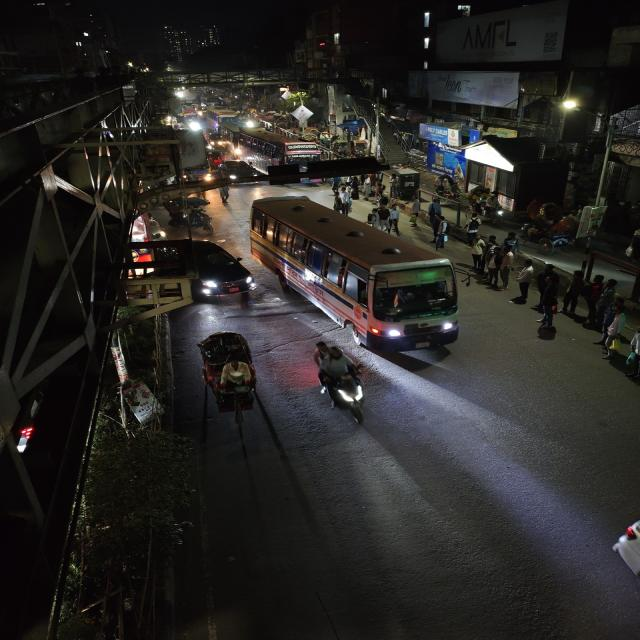bus: (246, 195, 471, 350), (230, 128, 324, 172)
car: (163, 237, 258, 305), (215, 158, 267, 184)
cng: (206, 130, 230, 152)
motorcycle: (306, 338, 369, 424)
pedestrian: (567, 276, 600, 327), (597, 305, 630, 347), (557, 270, 587, 316), (536, 277, 564, 323), (599, 332, 634, 364), (515, 260, 539, 304), (485, 251, 512, 289), (432, 216, 453, 250), (469, 240, 487, 272), (464, 215, 482, 245), (502, 232, 521, 259), (386, 205, 403, 234), (215, 183, 234, 207), (380, 205, 396, 233), (375, 205, 390, 231), (427, 197, 443, 221), (338, 194, 353, 216), (408, 210, 423, 231), (365, 190, 383, 207), (366, 209, 380, 229), (486, 234, 500, 252)
rickshaw: (192, 329, 264, 413), (160, 198, 216, 234)
